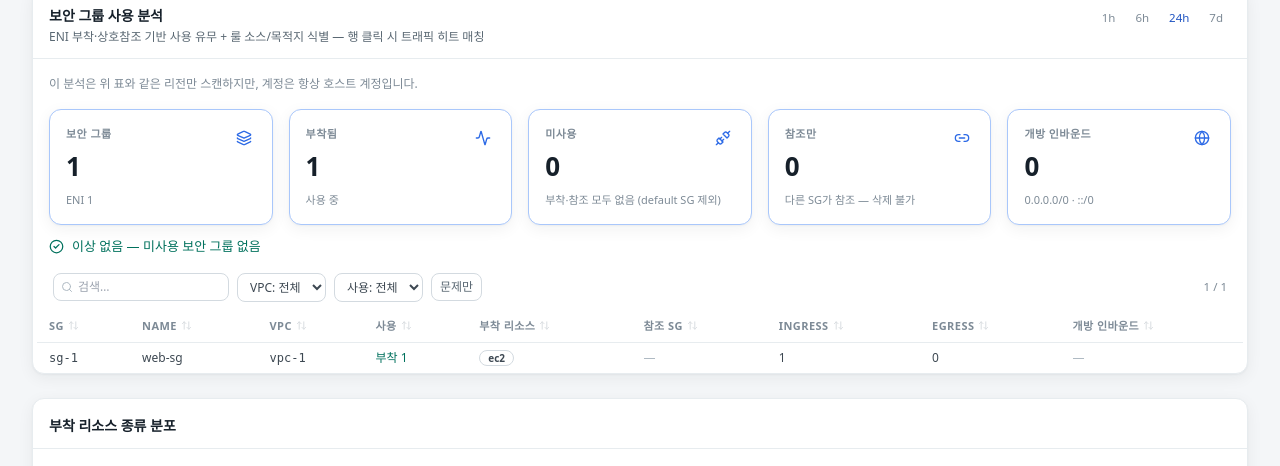
Scenario: /network/security-groups/usage › renders the moved analysis (KPI + table) and the row-click graph + Rules link
Click the text "sg-1".
click(63, 358)  # box [37, 342, 130, 373]
(page scrolled)
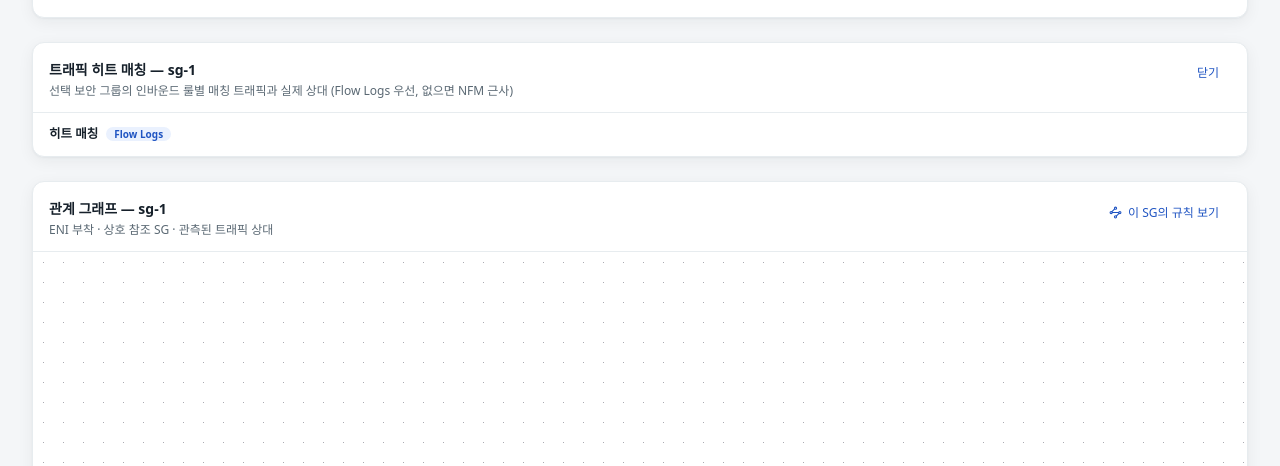
Now the link "이 SG의 규칙 보기" is shown, box [1109, 204, 1219, 221]
